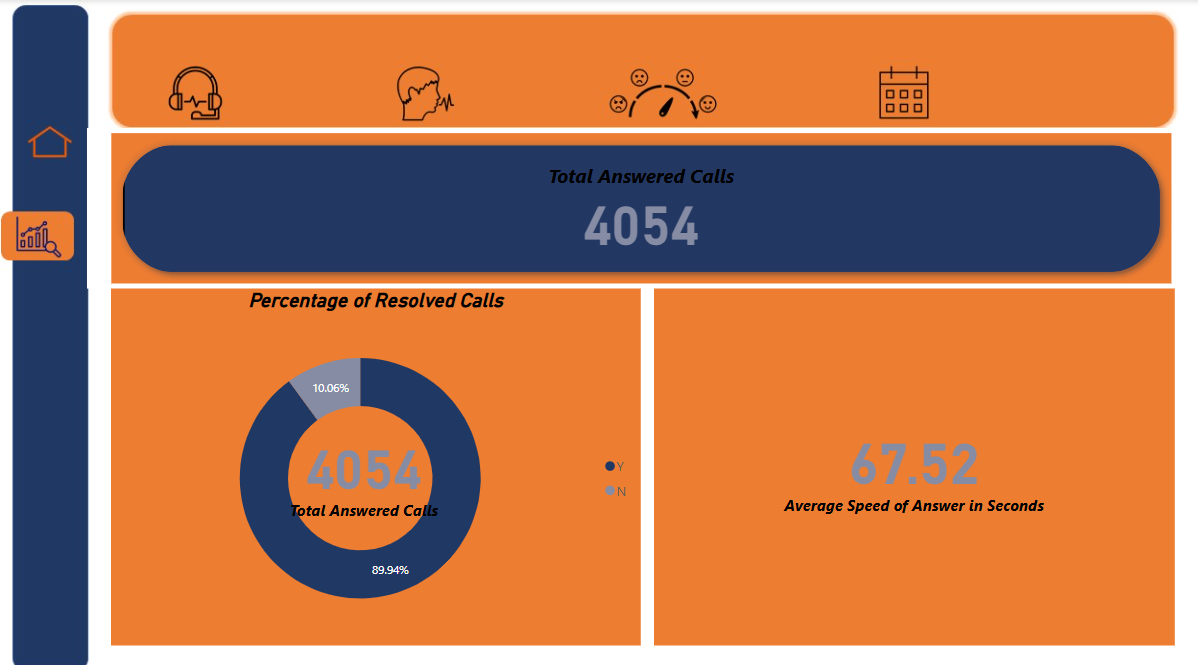

What the dashboard file says about the page in this screenshot:
{"tool":"powerbi","page":{"name":"Home","canvas":[1280,720],"ordinal":0},"visuals":[{"type":"cardVisual","fields":{"Data":["Sheet1.Total Call"]},"box":[109.4,134.4,1155,167.2],"z":0},{"type":"donutChart","title":"Percentage of Resolved Calls","fields":{"Category":["Sheet1.Resolved"],"Y":["Sheet1.Total Answered Calls"]},"box":[134.4,301.7,551.7,372],"z":1000},{"type":"card","fields":{"Values":["Sheet1.Total Answered Calls"]},"box":[311,423.6,173.5,140.7],"z":2000},{"type":"card","title":"Average Speed of Answer in Seconds","fields":{"Values":["Sheet1.Average Speed of Answer in Seconds"]},"box":[700.2,301.7,542.4,372],"z":3000}]}

Visuals, with their boxes on the page's 1280x720 design canvas (x1, y1, x2, y2). These are canvas units, not pixel positions in the 1198x665 screenshot, which may show the page scaled, cropped or inside an application window:
cardVisual - Sheet1.Total Call: Rect(109, 134, 1264, 302)
"Percentage of Resolved Calls" donutChart: Rect(134, 302, 686, 674)
card - Sheet1.Total Answered Calls: Rect(311, 424, 484, 564)
"Average Speed of Answer in Seconds" card: Rect(700, 302, 1243, 674)
